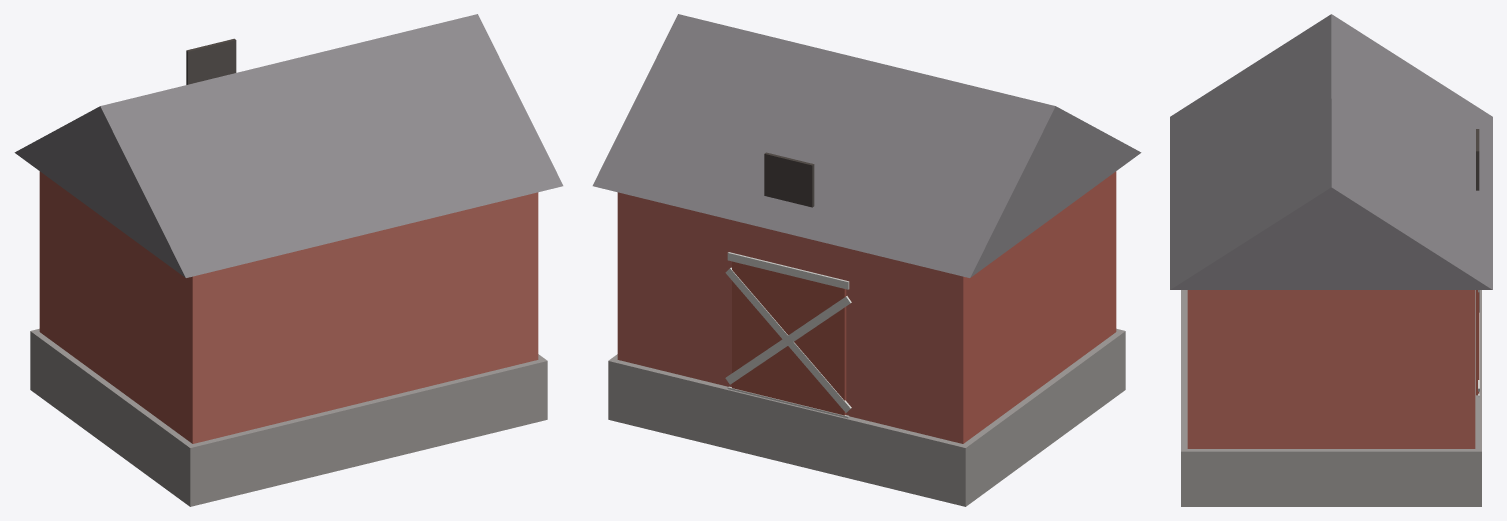
Rendered from barn.glb.
3 renders of one model, left to right at view 1: azimuth 30°, elevation 25°; view 2: azimuth 150°, elevation 25°; view 3: azimuth 270°, elevation 25°, orthographic. The views are drawn at different scales.
Visible parts, largest first — view 1: barn2; view 2: barn2; view 3: barn2.
Part boxes in pixels (left/top/right/bottom): barn2: left=14, top=14, right=563, bottom=506; barn2: left=592, top=14, right=1141, bottom=506; barn2: left=1170, top=14, right=1492, bottom=506.
Size of the model in its own units: 9.4 by 8.2 by 7.4.
